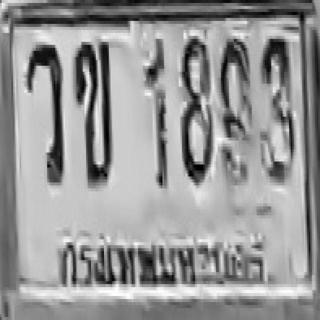A02: (72, 39, 110, 182)
A37: (25, 42, 62, 182)
N01: (144, 34, 167, 187)
N03: (258, 36, 294, 182)
N08: (180, 35, 213, 184)
N09: (218, 37, 252, 184)
P04: (58, 229, 267, 290)
